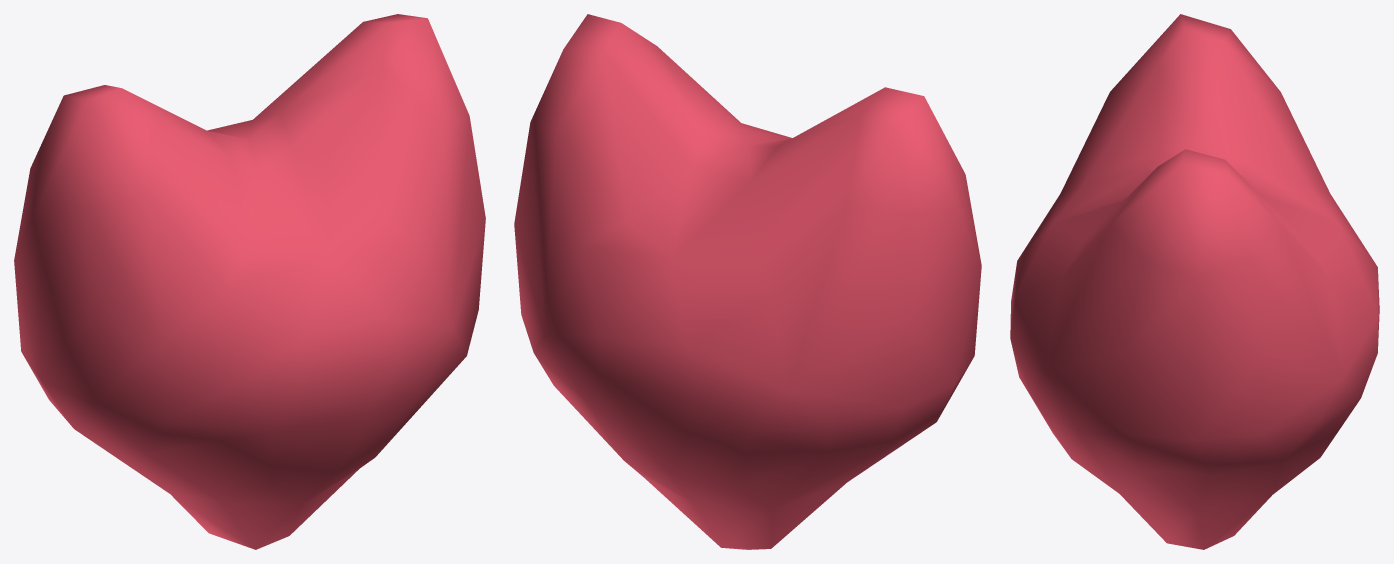
Rendered from heartlowpoly.glb.
3 views of the same model, side by side, from view 1: azimuth 30°, elevation 25°; view 2: azimuth 150°, elevation 25°; view 3: azimuth 270°, elevation 25° (orthographic). The views are drawn at different scales.
Visible parts, largest first — view 1: HeartA; view 2: HeartA; view 3: HeartA.
Part boxes in pixels (x1=…): HeartA: x1=14, y1=14, x2=485, y2=549; HeartA: x1=514, y1=14, x2=981, y2=549; HeartA: x1=1010, y1=14, x2=1379, y2=549.
Size of the model in its own units: 0.6374 by 0.7144 by 0.521.
